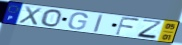F: (114, 16, 141, 37)
G: (67, 12, 90, 31)
I: (93, 14, 105, 34)
O: (40, 9, 63, 28)
X: (17, 5, 44, 26)
Z: (136, 18, 165, 41)
